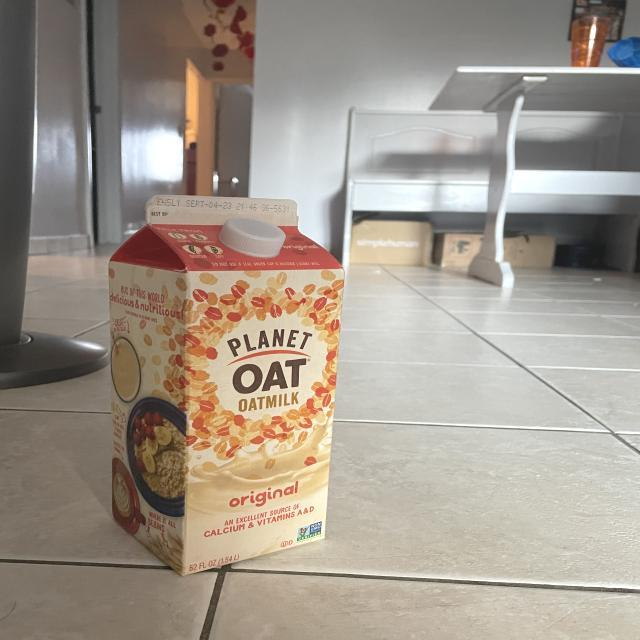Planet Oat Original: (100, 187, 344, 581)
